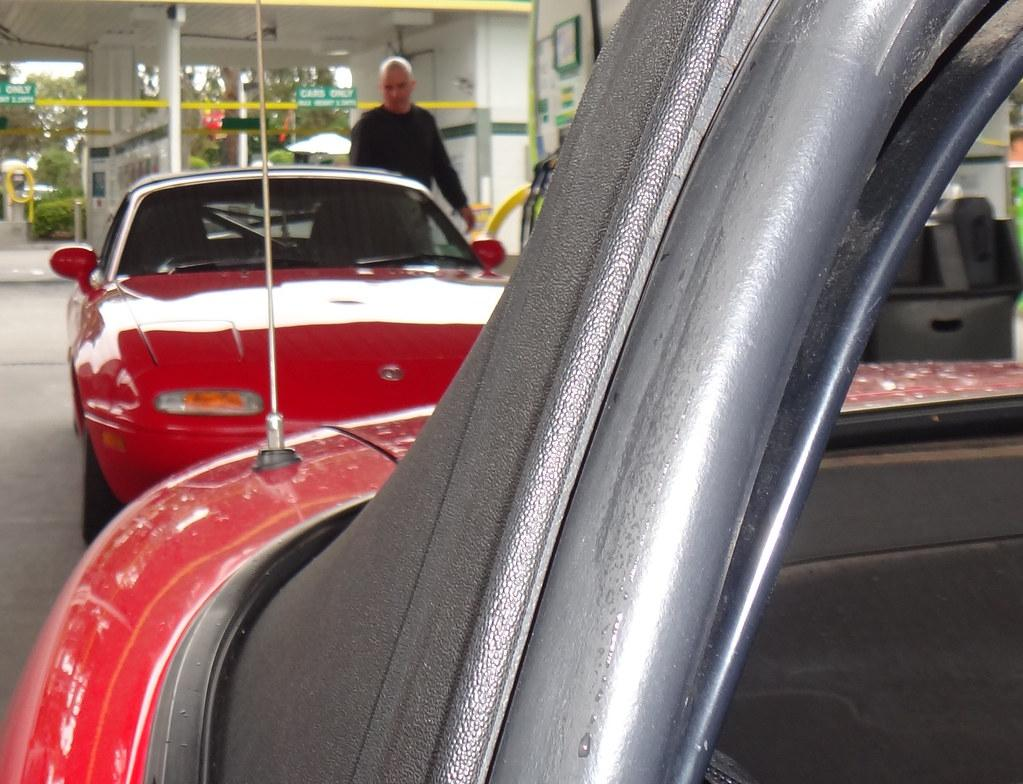car: (3, 1, 1022, 784), (50, 163, 512, 547)
